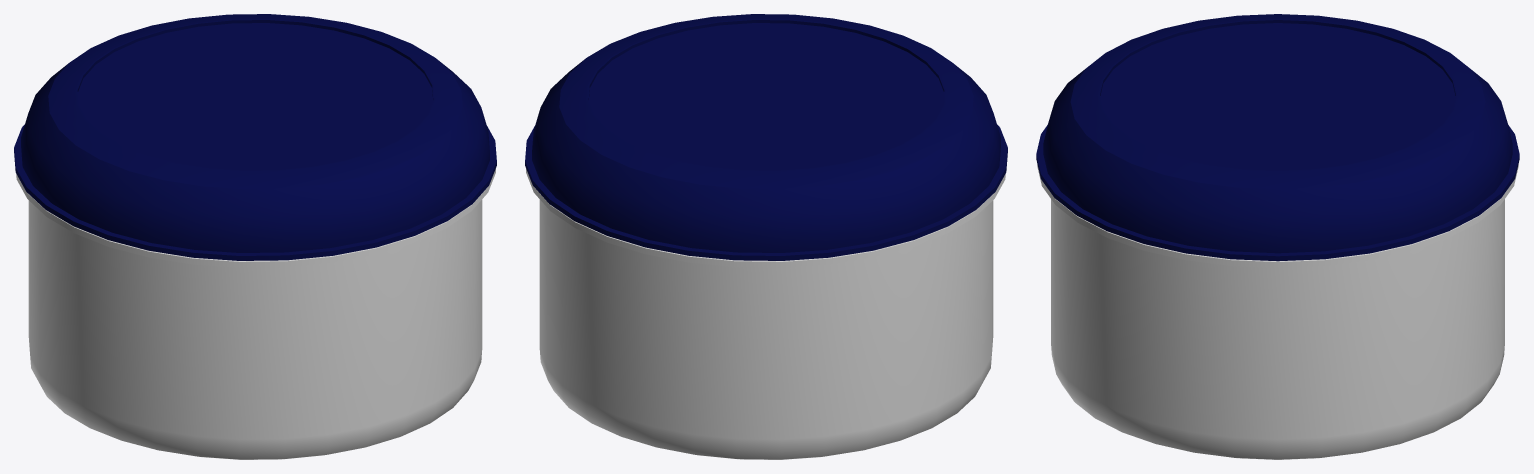
Rendered from taperdeleo.fbx.
3 views of the same model, side by side, from view 1: azimuth 30°, elevation 25°; view 2: azimuth 150°, elevation 25°; view 3: azimuth 270°, elevation 25° (orthographic).
Parts seen in each view (by area): view 1: taperdeleo; view 2: taperdeleo; view 3: taperdeleo.
Part boxes in pixels (x1,y1,x2,y2): taperdeleo: [14, 14, 496, 459]; taperdeleo: [525, 14, 1007, 459]; taperdeleo: [1036, 14, 1519, 459].
Size of the model in its own units: 15.97 by 10.12 by 15.97.
